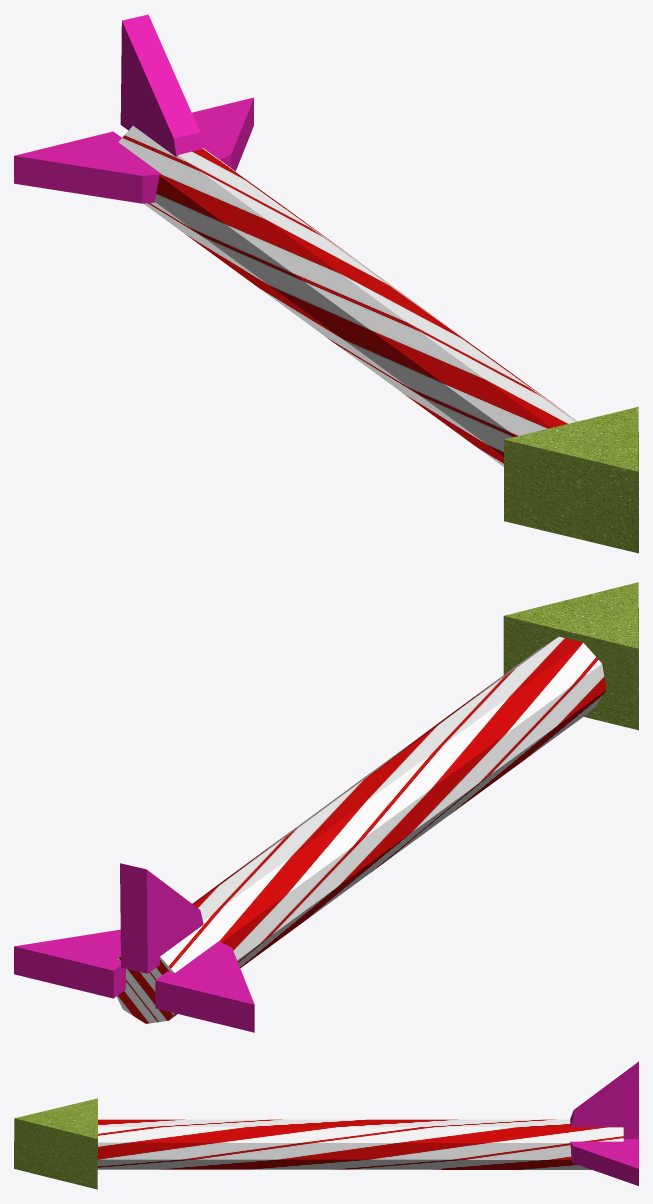
Rendered from Flecha.fbx.
3 renders of one model, top to bottom at view 1: azimuth 30°, elevation 25°; view 2: azimuth 150°, elevation 25°; view 3: azimuth 270°, elevation 25°, orthographic. The views are drawn at different scales.
Visible parts, largest first — view 1: Cube.008; view 2: Cube.008; view 3: Cube.008.
Boxes of the visible parts, <box> form: Cube.008: <box>14,14,638,553</box>; Cube.008: <box>14,582,638,1032</box>; Cube.008: <box>14,1061,638,1189</box>.
Bounding box in the file's own units: 74.27 × 49.57 × 270.
